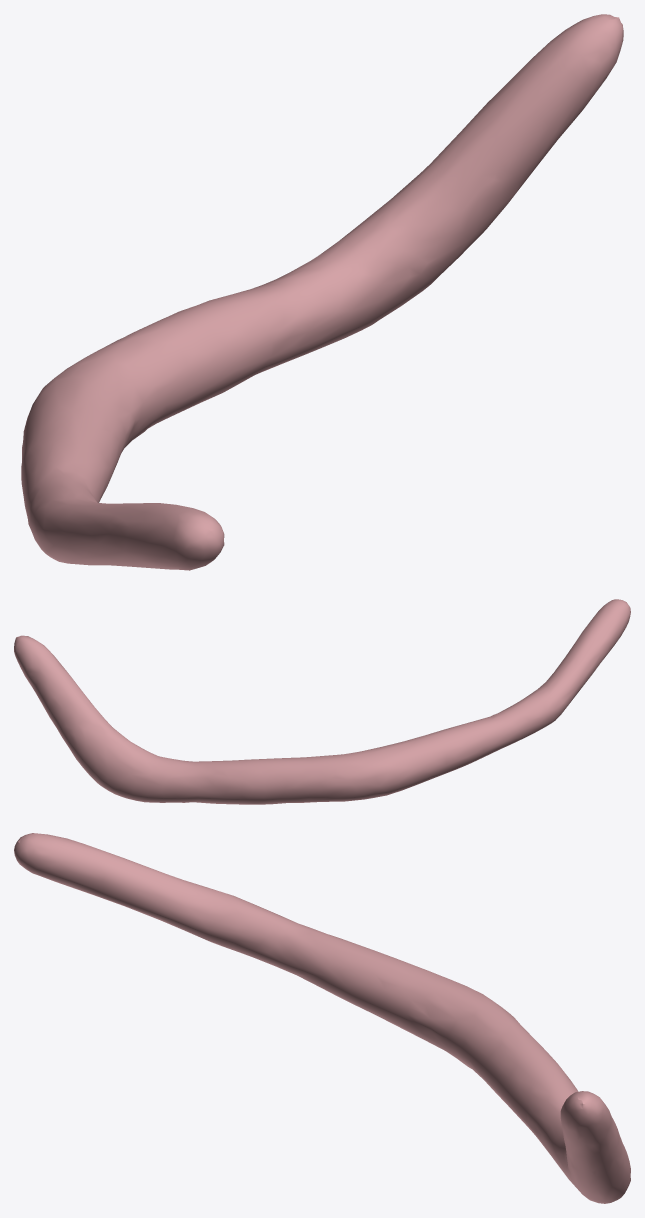
File: fma75137-r_mm3229m.glb
3 renders of one model, top to bottom at view 1: azimuth 30°, elevation 25°; view 2: azimuth 150°, elevation 25°; view 3: azimuth 270°, elevation 25°, orthographic. The views are drawn at different scales.
Visible parts, largest first — view 1: FMA75137-R_MM3229M; view 2: FMA75137-R_MM3229M; view 3: FMA75137-R_MM3229M.
Part boxes in pixels (box(x1,y1,x2,y2)): FMA75137-R_MM3229M: box(21, 14, 623, 570); FMA75137-R_MM3229M: box(14, 599, 630, 804); FMA75137-R_MM3229M: box(14, 833, 630, 1203).
Size of the model in its own units: 0.0342 by 0.0101 by 0.0308.
